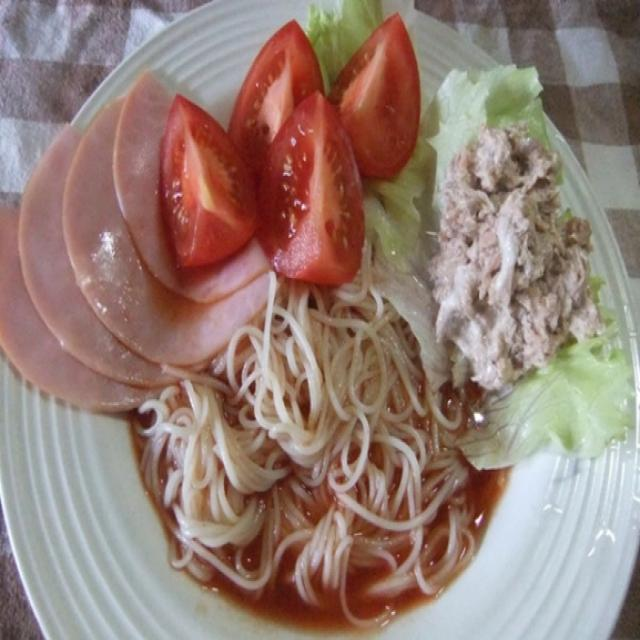面条主食: (6, 2, 634, 631)
